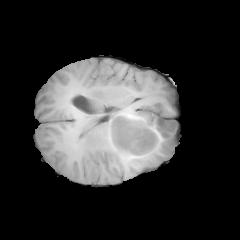glioma: (64, 106, 176, 157)
